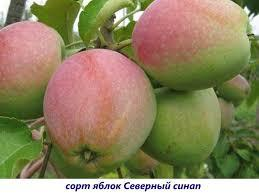Apple: (44, 49, 157, 174), (132, 0, 252, 91), (140, 82, 221, 166), (0, 21, 67, 120), (216, 74, 250, 102), (211, 99, 234, 128)
